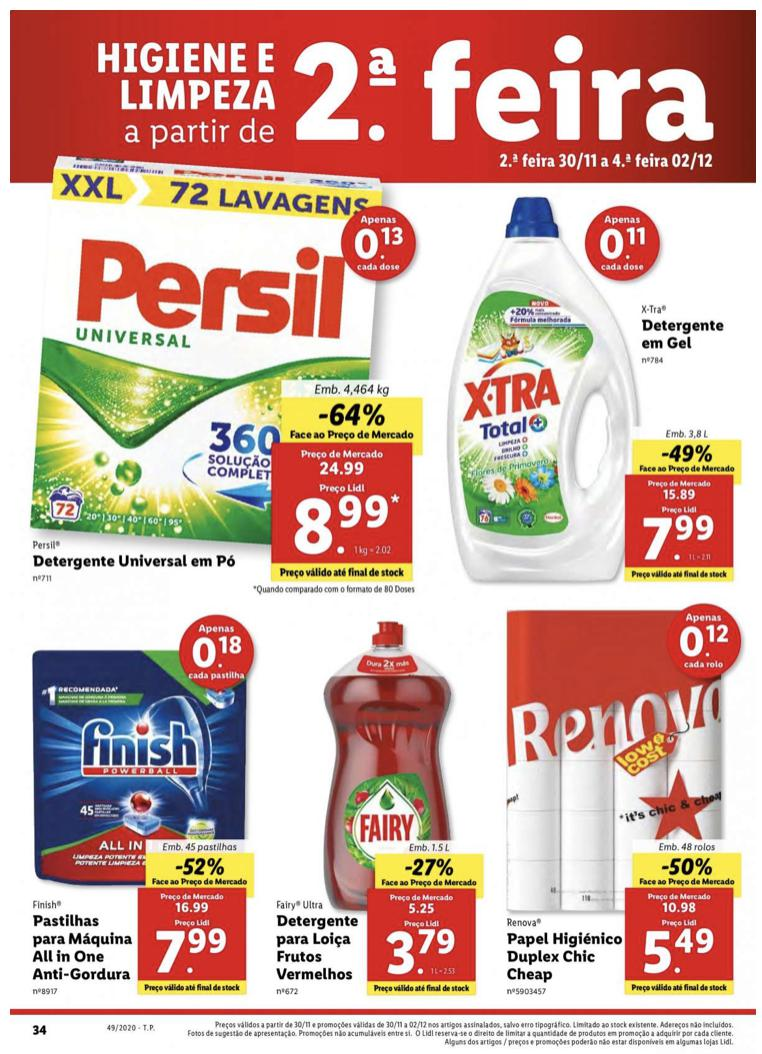name: (30, 911, 136, 985), (274, 913, 365, 984), (505, 929, 626, 981), (32, 549, 239, 571), (638, 316, 730, 353)
price: (288, 480, 400, 562), (149, 914, 235, 980), (639, 500, 722, 566), (379, 916, 462, 980), (636, 916, 718, 978)
product: (14, 153, 440, 614), (438, 184, 749, 602), (500, 602, 749, 1003), (13, 618, 262, 1003), (265, 615, 487, 1005)
promotion: (316, 398, 390, 431), (658, 442, 717, 466), (403, 854, 457, 880), (660, 853, 716, 878), (175, 857, 227, 879)
